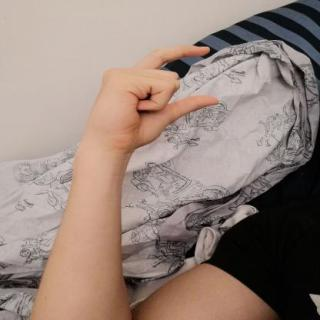DELL: (82, 39, 230, 153)
